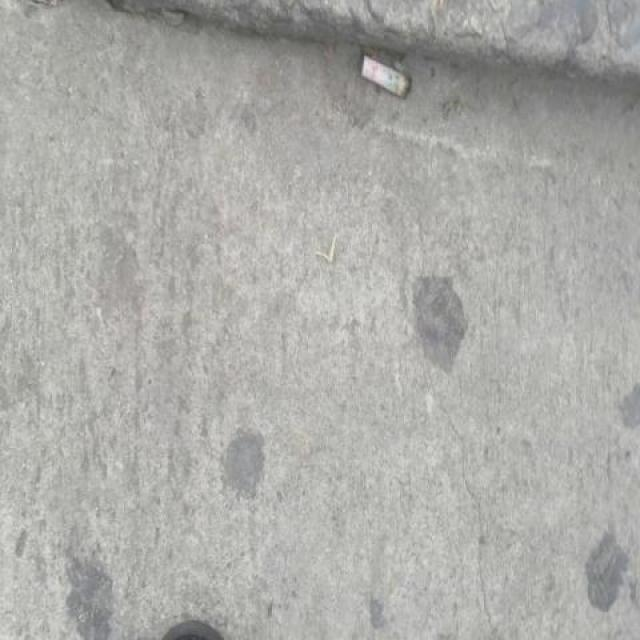non-organic waste: (355, 50, 421, 110)
